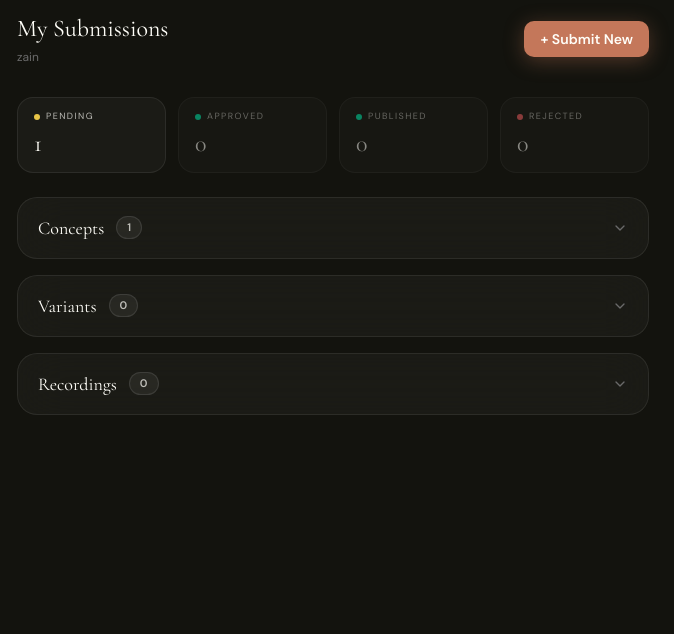
Scenario: MySubmissions page — sections › loads a section only when it is opened, and closes it again
Click the button "Concepts 1" at (71, 228), box 18,198 -> 648,258
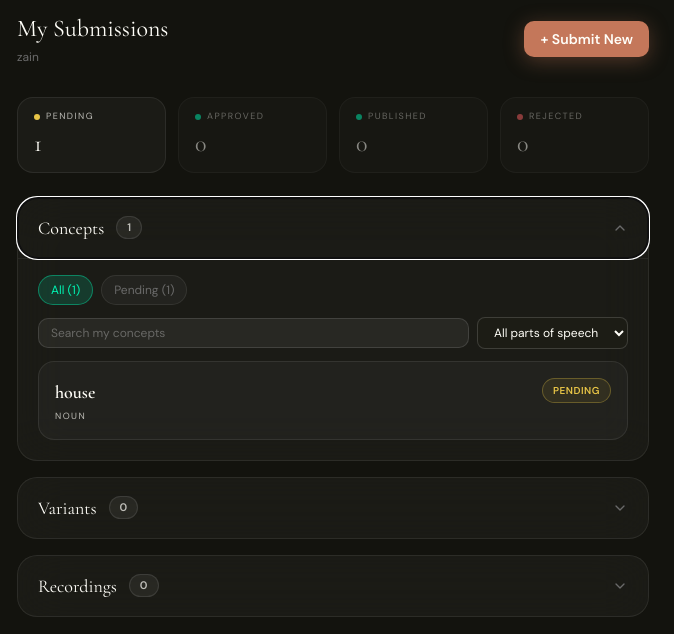
Expected: the text "house" is shown, 55,378 -> 95,406
Expected: the button "Concepts 1" is expanded
Click the button "Concepts 1" at (71, 228), box 18,198 -> 648,258
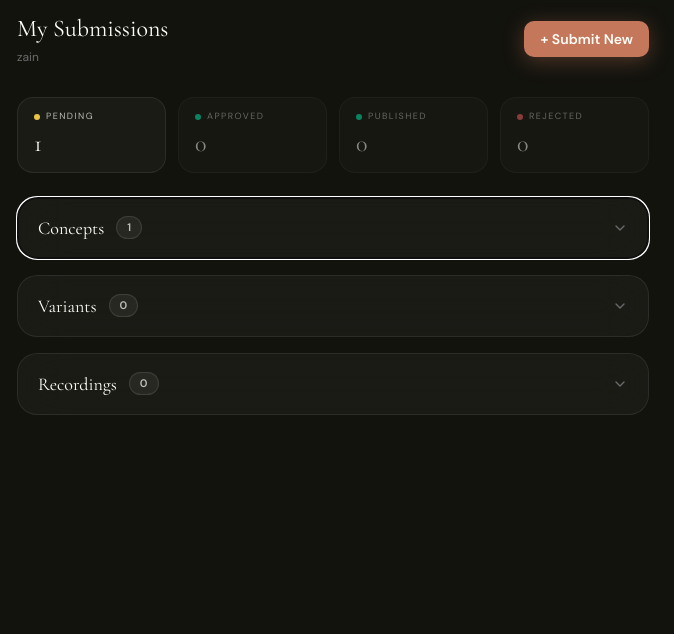
Expected: the text "house" is gone
